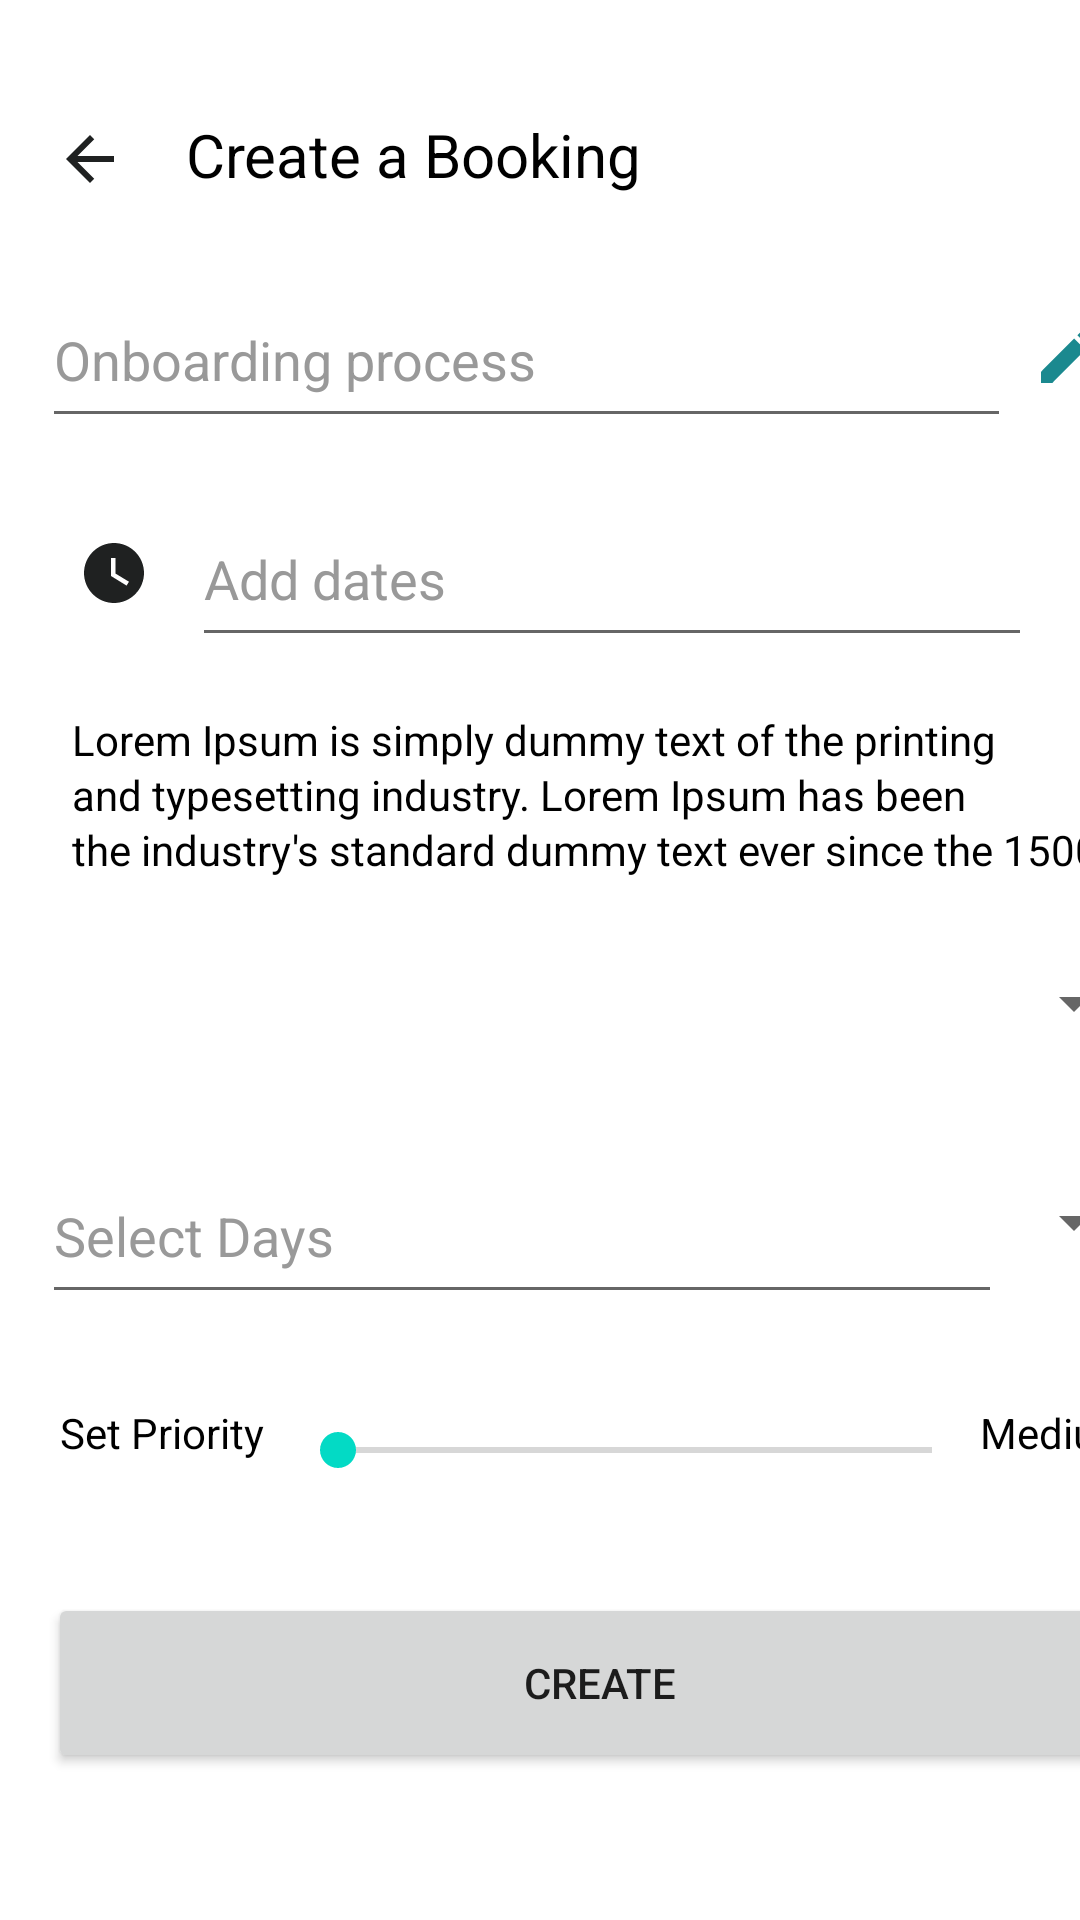

Named icons in this screenshot (1080*1920) and their centers, [x,y]:
arrow back: [90,159]
